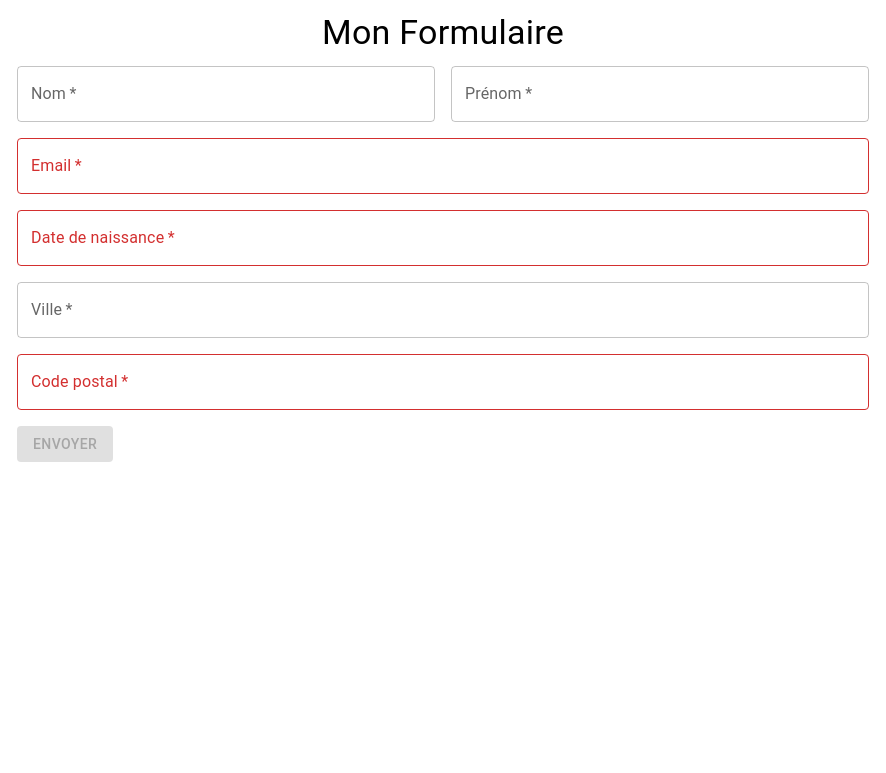
it: Forms component › should display an error toast when a postal code is not in French format
Note: Remplir tous les champs du formulaire avec des valeurs invalides
Step 1. Type "Jean" into the field labelled "Nom *" → (226, 94), box [17,66,435,122]
Step 2. Type "Dupont" into the field labelled "Prénom *" → (660, 94), box [451,66,869,122]
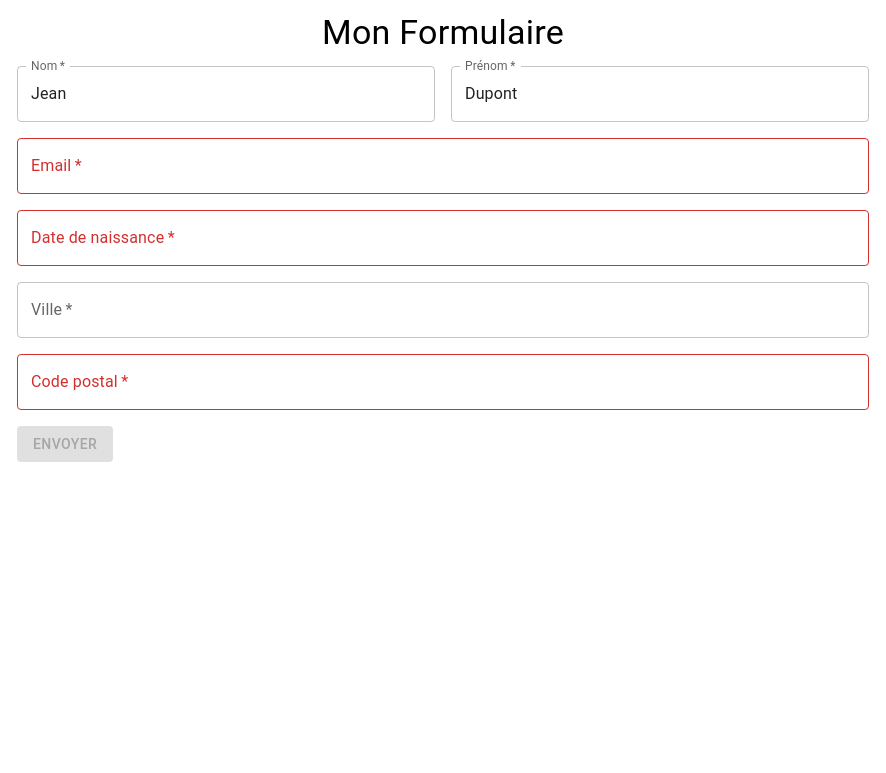
Step 3. Type "email@example.com" into the field labelled "Email *" → (443, 166), box [17,138,869,194]
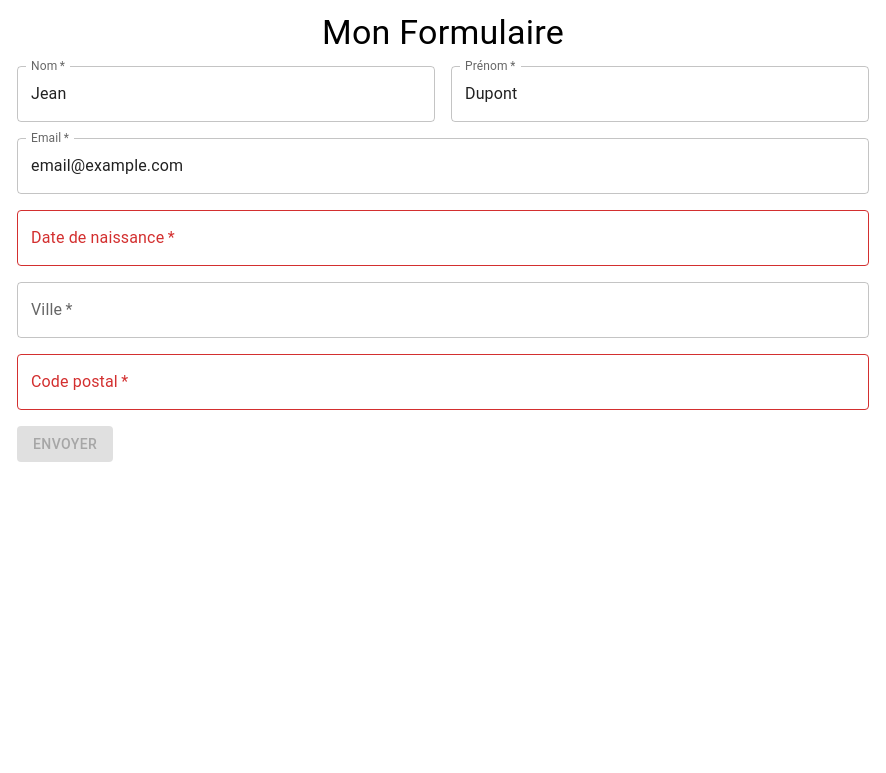
Step 4. Type "02/02/1994" into the field labelled "Date de naissance *" → (443, 238), box [17,210,869,266]
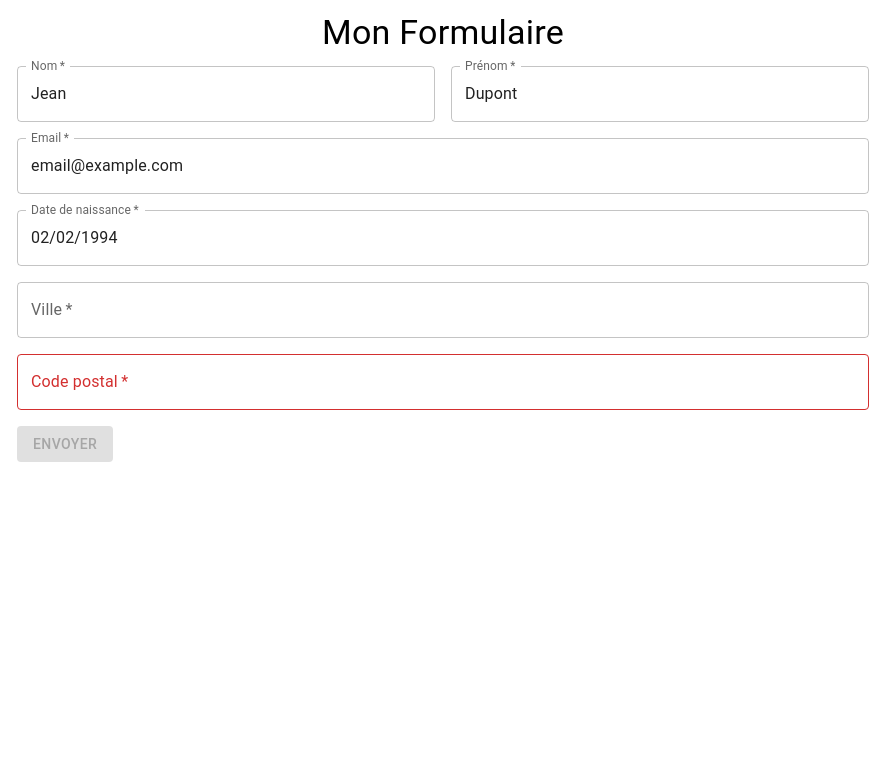
Step 5. Type "Grasse" into the field labelled "Ville *" → (443, 310), box [17,282,869,338]
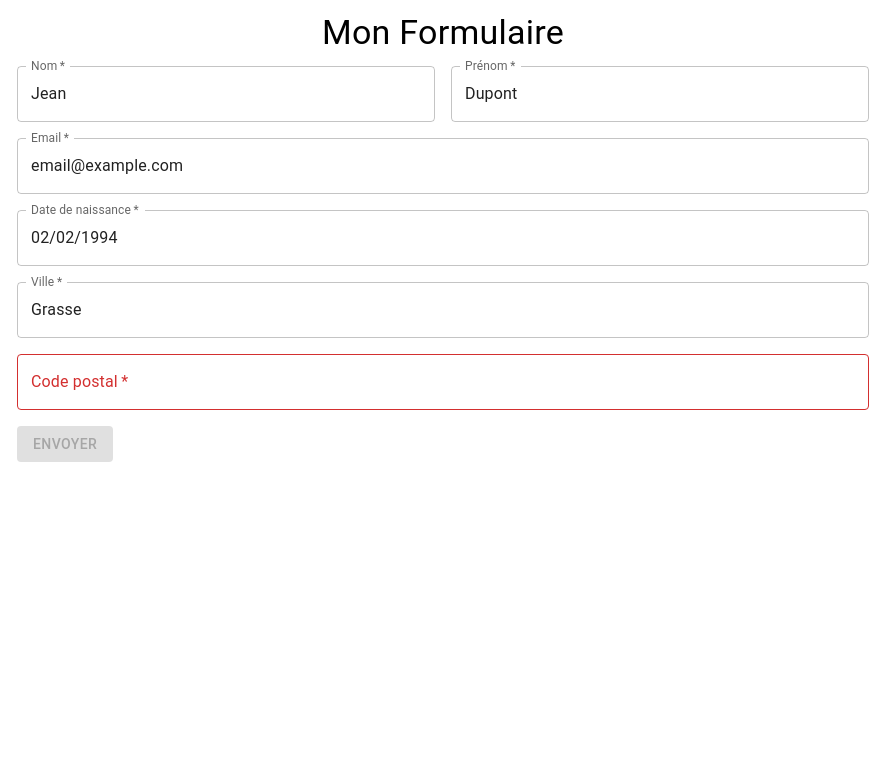
Step 6. Type "B6130" into the field labelled "Code postal *" → (443, 382), box [17,354,869,410]
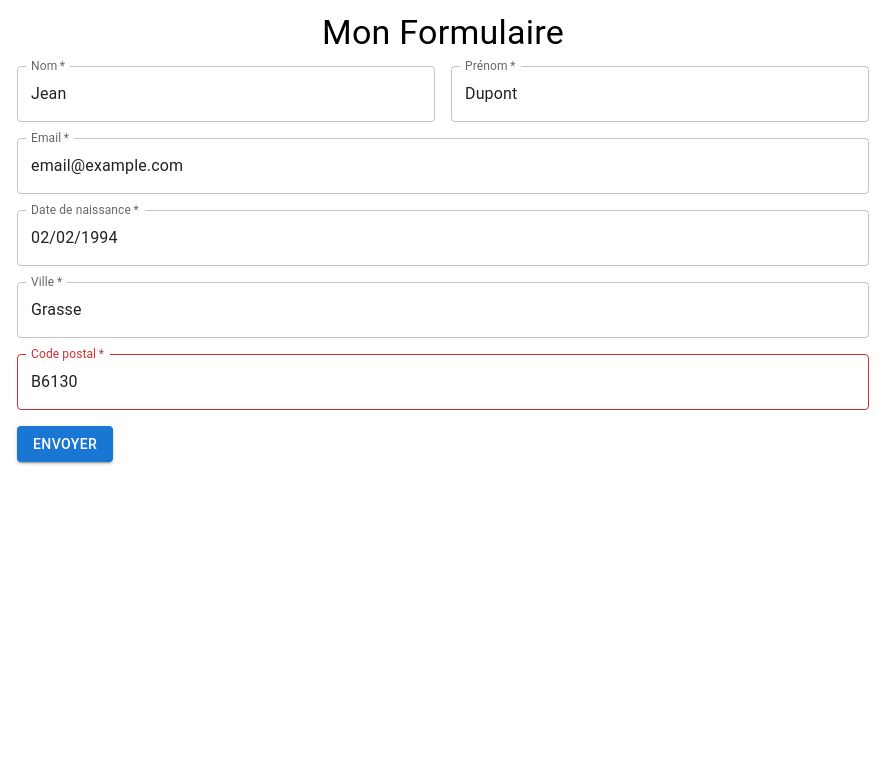
Note: Soumettre le formulaire
Step 7. Submit the form from the button "Envoyer", box [17,426,113,462]
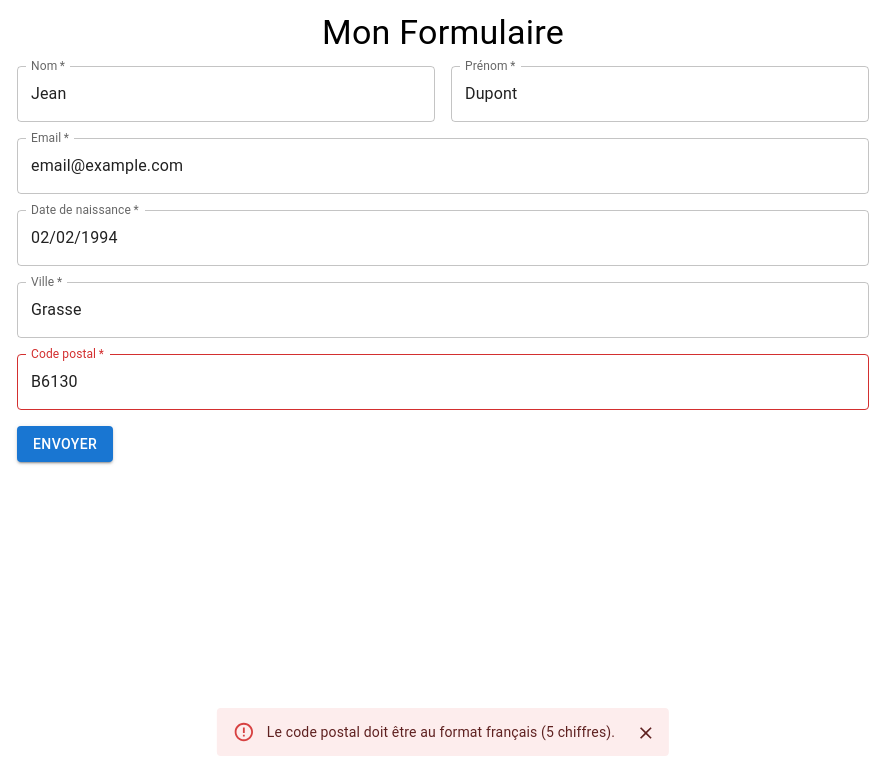
Expected: the text "Le code postal doit être au format français (5 chiffres)." is shown, [267,724,615,740]
